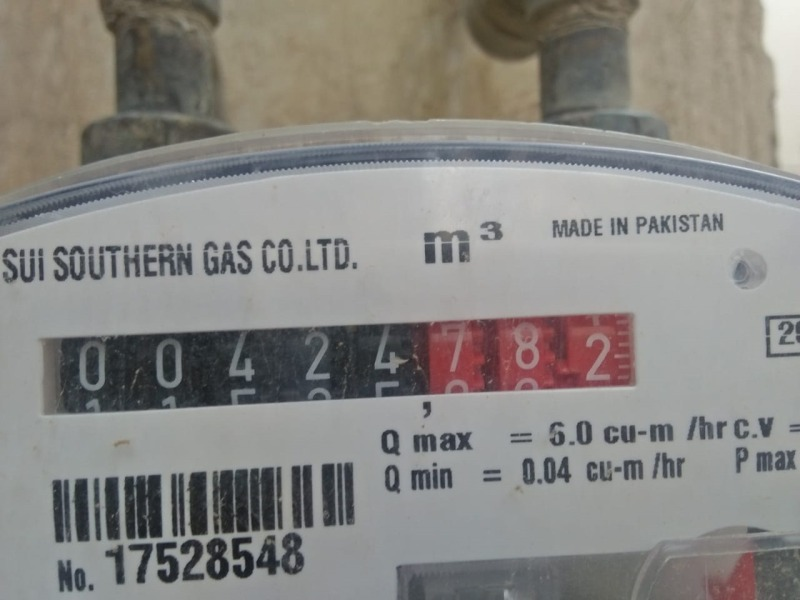ssgc: (32, 316, 637, 406)
